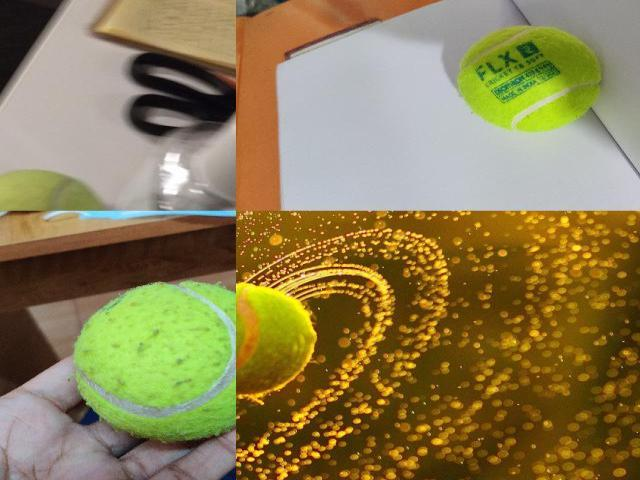tennis-ball: (73, 281, 235, 441), (455, 24, 603, 132), (236, 284, 316, 396), (0, 168, 107, 210)
